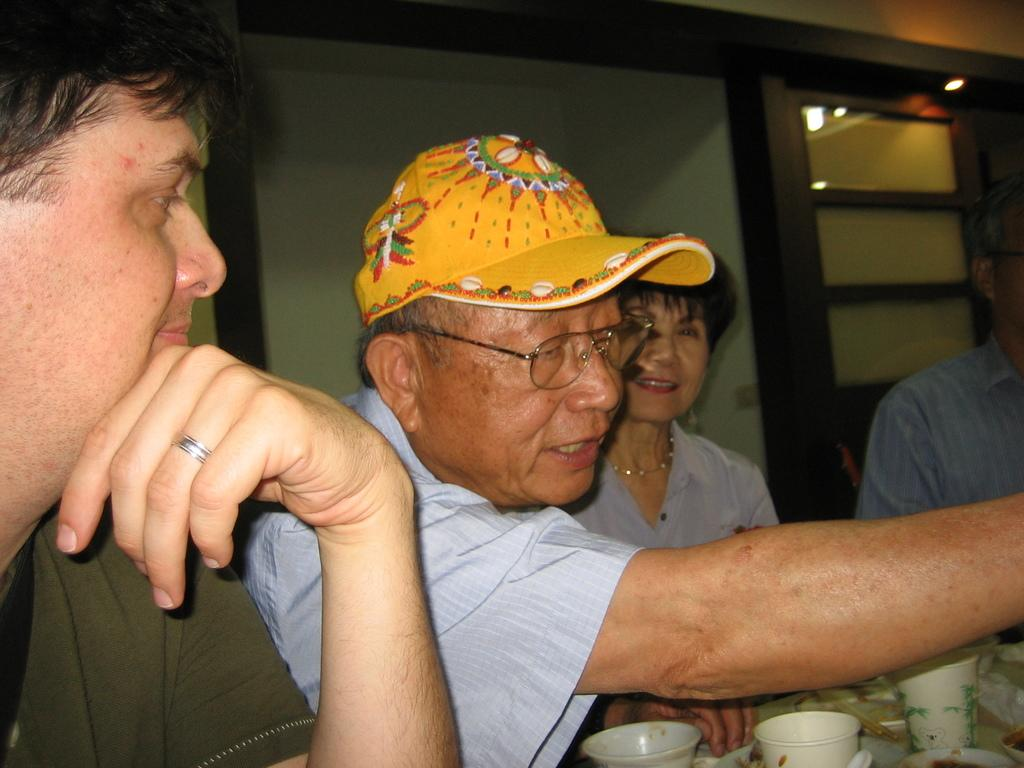Sem Máscara: (0, 69, 227, 510), (419, 286, 625, 511), (613, 285, 709, 417)
